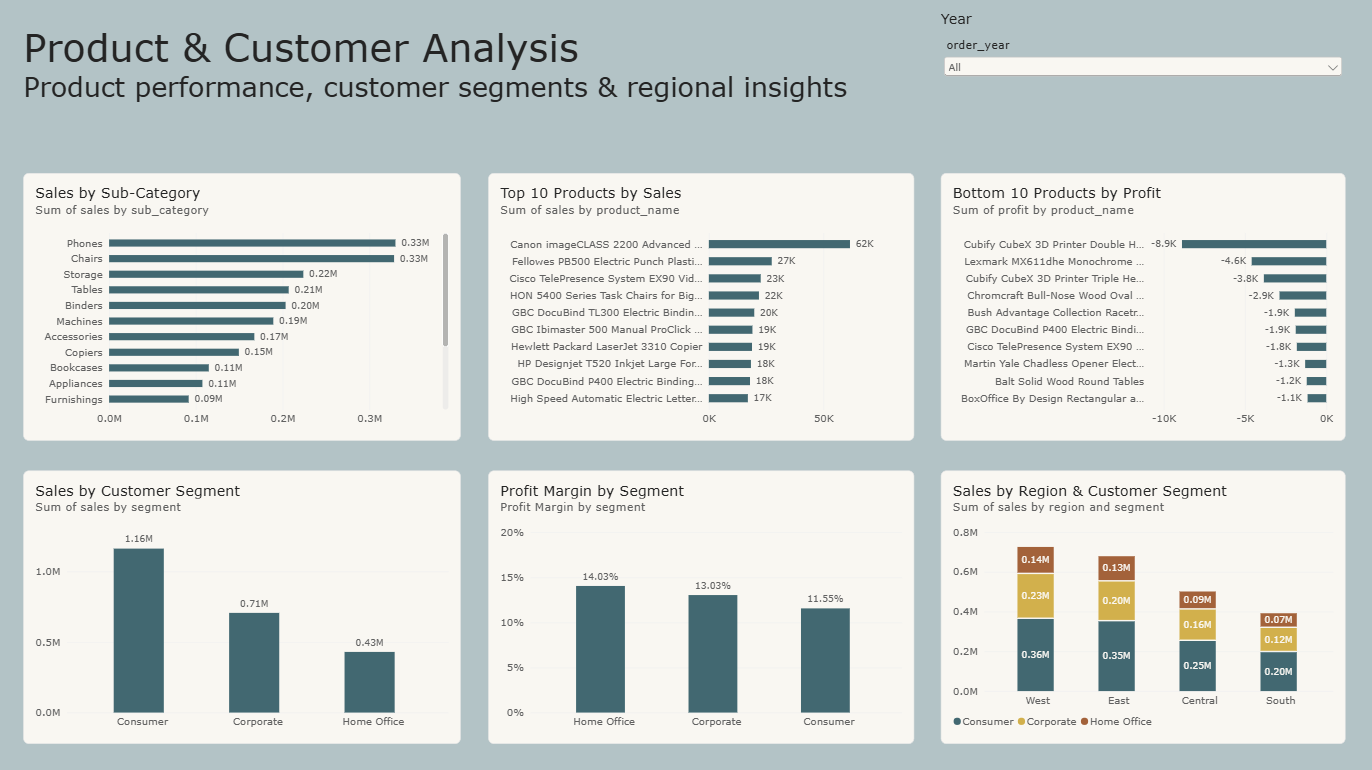

The dashboard page shown, as its layout file describes it:
{"tool":"powerbi","page":{"name":"Product & Customer Analysis","canvas":[1920,1080],"ordinal":1},"visuals":[{"type":"clusteredBarChart","title":"Sales by Sub-Category","fields":{"Category":["superstore sales.sub_category"],"Y":["Sum(superstore sales.sales)"]},"box":[36.6,244.2,610.5,373.3],"z":0},{"type":"clusteredBarChart","title":"Top 10 Products by Sales","fields":{"Category":["superstore sales.product_name"],"Y":["Sum(superstore sales.sales)"]},"box":[684.6,244.2,594.8,373.3],"z":1000},{"type":"clusteredBarChart","title":"Bottom 10 Products by Profit","fields":{"Category":["superstore sales.product_name"],"Y":["Sum(superstore sales.profit)"]},"box":[1316.9,244.2,565.1,373.3],"z":2000},{"type":"clusteredColumnChart","title":"Sales by Customer Segment","fields":{"Category":["superstore sales.segment"],"Y":["Sum(superstore sales.sales)"]},"box":[36.6,659.3,610.5,382],"z":3000},{"type":"clusteredColumnChart","title":"Profit Margin by Segment","fields":{"Category":["superstore sales.segment"],"Y":["superstore sales.Profit Margin"]},"box":[684.6,659.3,594.8,382],"z":4000},{"type":"columnChart","title":"Sales by Region & Customer Segment","fields":{"Category":["superstore sales.region"],"Series":["superstore sales.segment"],"Y":["Sum(superstore sales.sales)"]},"box":[1316.9,659.3,565.1,382],"z":5000},{"type":"slicer","title":"Year","fields":{"Values":["superstore sales.order_year"]},"box":[1316.9,15.7,565.1,228.5],"z":6000},{"type":"textbox","box":[36.6,0,1226.2,188.4],"z":7000}]}

Visuals, with their boxes in screenshot pixels (x1, y1, x2, y2), scaled from the page's 1920x1080 canvas onto the 1372x770 screenshot:
"Sales by Sub-Category" clusteredBarChart: 26 174 462 440
"Top 10 Products by Sales" clusteredBarChart: 489 174 914 440
"Bottom 10 Products by Profit" clusteredBarChart: 941 174 1345 440
"Sales by Customer Segment" clusteredColumnChart: 26 470 462 742
"Profit Margin by Segment" clusteredColumnChart: 489 470 914 742
"Sales by Region & Customer Segment" columnChart: 941 470 1345 742
"Year" slicer: 941 11 1345 174
textbox: 26 0 902 134
